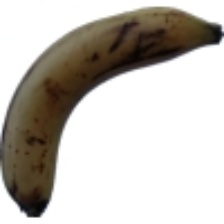banana: (9, 6, 178, 182)
